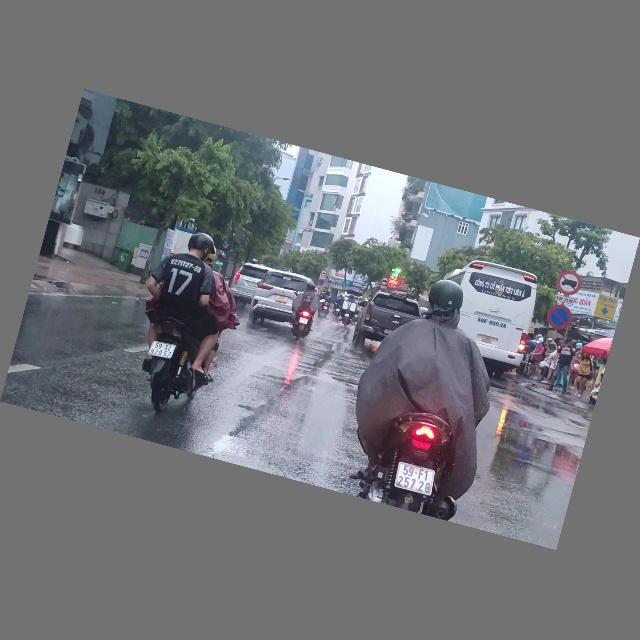P.106a*Xe tai: (553, 268, 585, 299), (380, 277, 390, 287), (320, 270, 327, 278)
P.131a: (544, 300, 576, 334), (318, 279, 325, 287)
